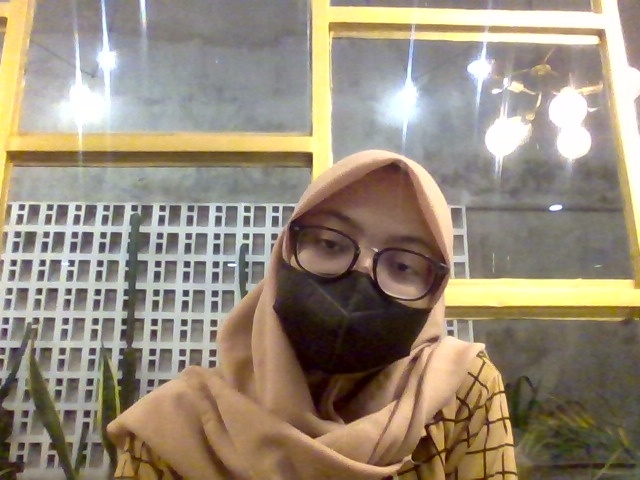Drowsy: (244, 128, 490, 463)
